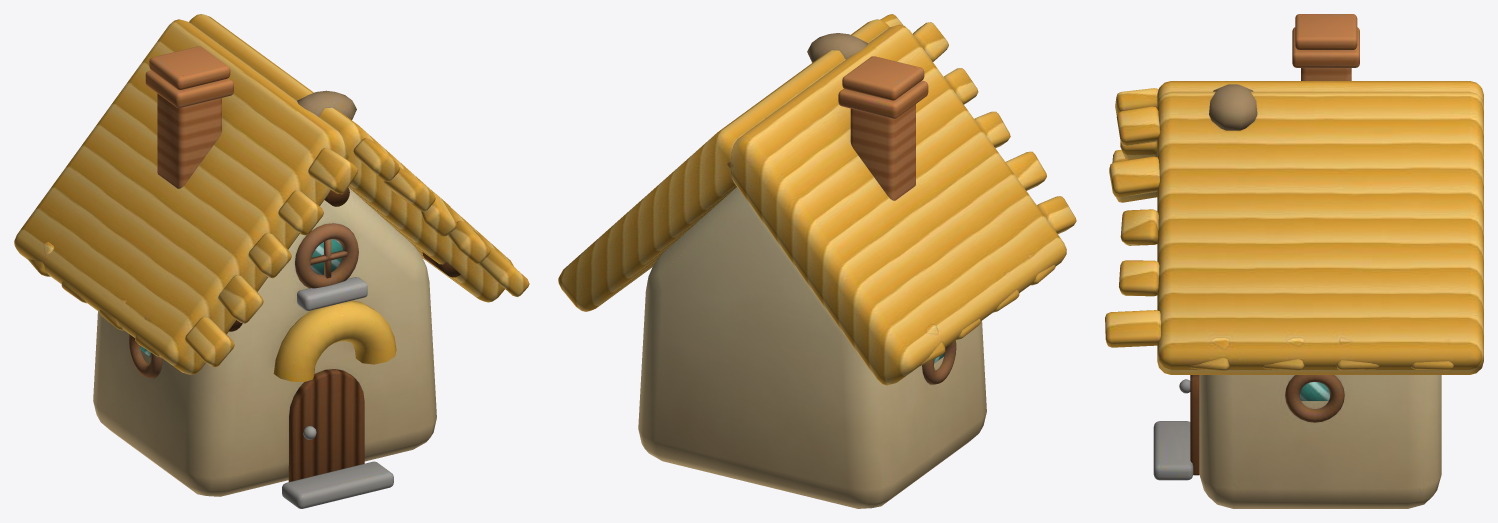
The model's file is hut_3_high.glb.
3 views of the same model, side by side, from view 1: azimuth 30°, elevation 25°; view 2: azimuth 150°, elevation 25°; view 3: azimuth 270°, elevation 25° (orthographic).
Visible parts, largest first — view 1: hut_3; view 2: hut_3; view 3: hut_3.
Boxes of the visible parts, bbox=[...] form: hut_3: bbox=[14, 14, 529, 508]; hut_3: bbox=[558, 14, 1076, 508]; hut_3: bbox=[1105, 14, 1483, 508].
Size of the model in its own units: 1.47 by 1.55 by 1.35.
Materials: 1 (1 with a texture image).
